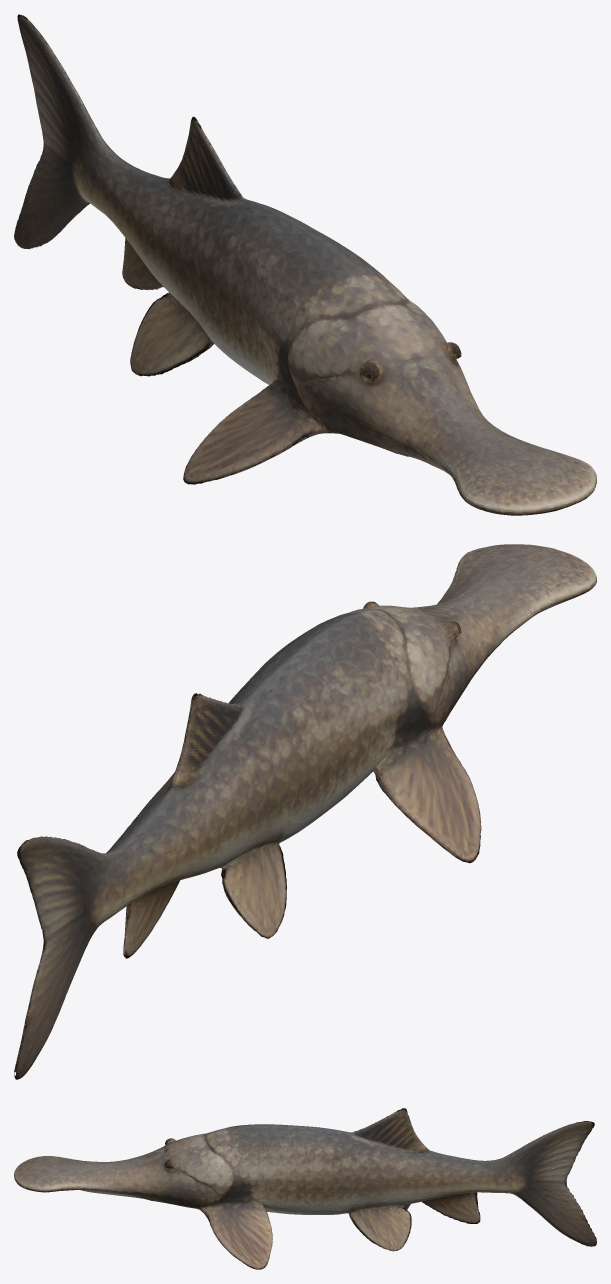
3 views of the same model, one above another, from view 1: azimuth 30°, elevation 25°; view 2: azimuth 150°, elevation 25°; view 3: azimuth 270°, elevation 25° (orthographic). The views are drawn at different scales.
Visible parts, largest first — view 1: world; view 2: world; view 3: world.
Boxes of the visible parts, box(x1,y1,x2,y2) form: world: box(14, 14, 596, 515); world: box(14, 544, 596, 1079); world: box(14, 1108, 596, 1269).
Size of the model in its own units: 0.3073 by 0.2614 by 0.9998.
Materials: 1 (1 with a texture image).
